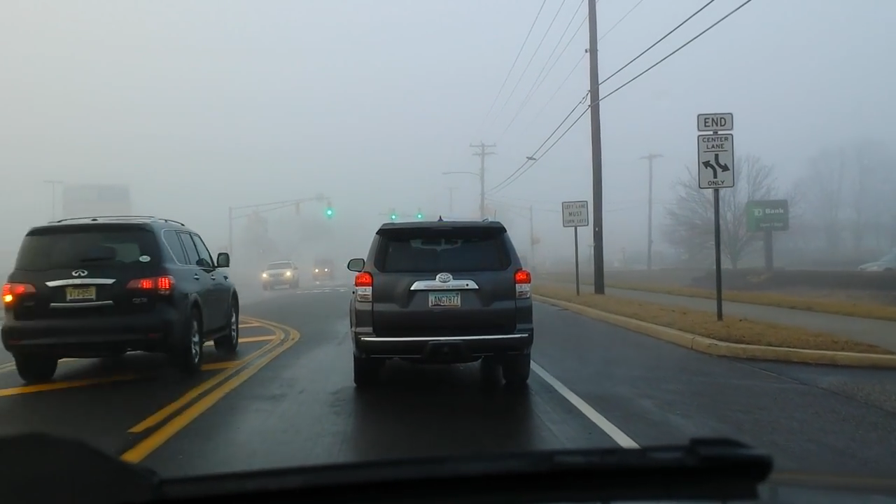car: (1, 212, 240, 384), (346, 211, 536, 391), (259, 261, 300, 291), (856, 252, 892, 278), (308, 257, 336, 281)
